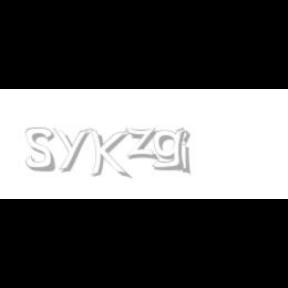K: (89, 128, 129, 180)
S: (25, 128, 56, 172)
g: (152, 128, 190, 171)
i: (178, 128, 194, 176)
y: (53, 128, 93, 172)
z: (125, 128, 161, 160)
